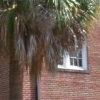Palm tree: (5, 3, 68, 96)
